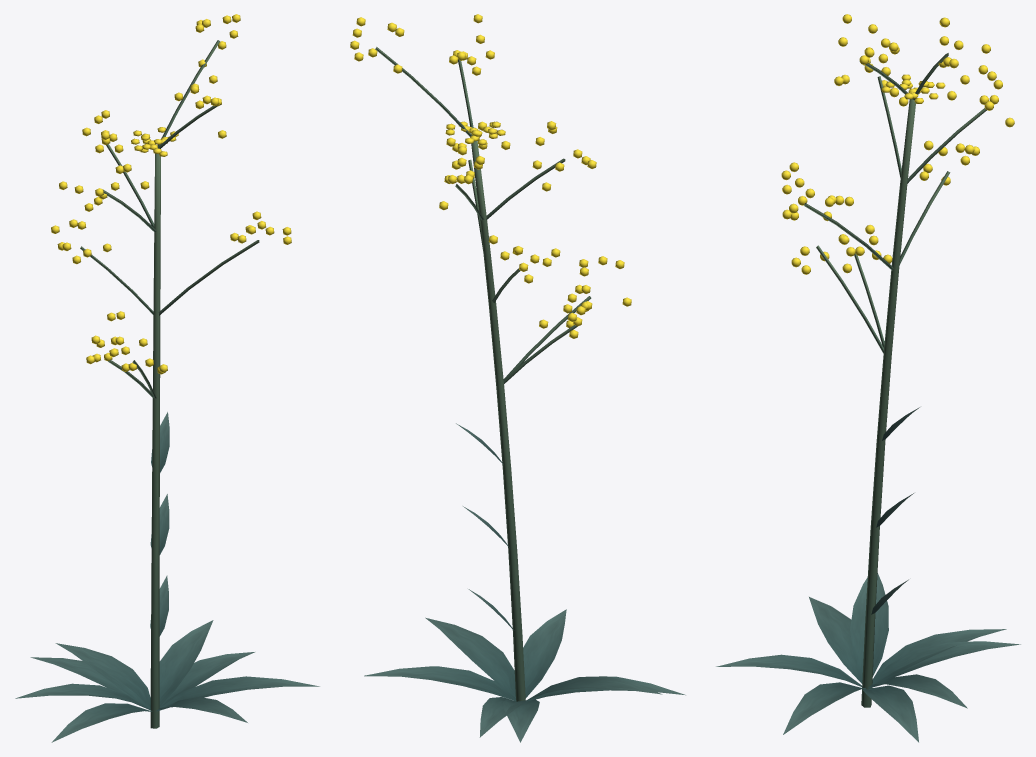
File: woad.glb
3 views of the same model, side by side, from view 1: azimuth 30°, elevation 25°; view 2: azimuth 150°, elevation 25°; view 3: azimuth 270°, elevation 25° (orthographic). The views are drawn at different scales.
Parts seen in each view (by area): view 1: woad; view 2: woad; view 3: woad.
Boxes of the visible parts, x1,y1,x2,y2 form: woad: [15, 14, 319, 742]; woad: [350, 14, 685, 742]; woad: [716, 14, 1020, 742].
Size of the model in its own units: 0.374 by 0.8878 by 0.3351.
1 material, 1 textured.
